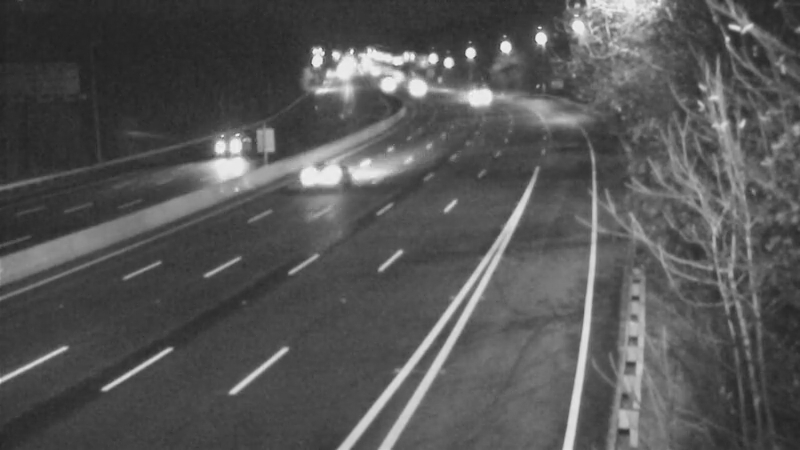vehicle: (272, 137, 352, 217), (362, 60, 412, 110), (391, 65, 441, 115), (448, 73, 498, 123), (208, 116, 258, 166)
